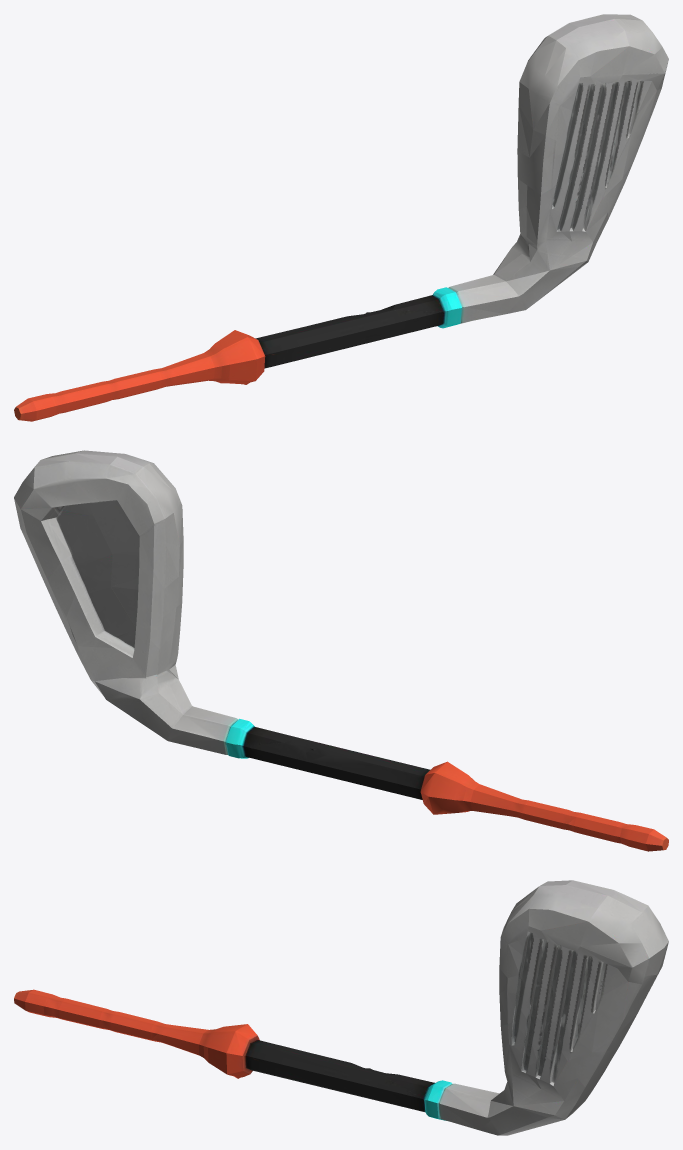
Rendered from FerPlay.fbx.
3 renders of one model, top to bottom at view 1: azimuth 30°, elevation 25°; view 2: azimuth 150°, elevation 25°; view 3: azimuth 330°, elevation 25°, orthographic.
Parts seen in each view (by area): view 1: WP_FerPlay_LOD0; view 2: WP_FerPlay_LOD0; view 3: WP_FerPlay_LOD0.
Boxes of the visible parts, bbox=[...] form: WP_FerPlay_LOD0: bbox=[14, 14, 668, 421]; WP_FerPlay_LOD0: bbox=[14, 450, 668, 851]; WP_FerPlay_LOD0: bbox=[14, 880, 668, 1135].
Bounding box in the file's own units: 0.85 × 0.348 × 0.1023.
1 material, 1 textured.
